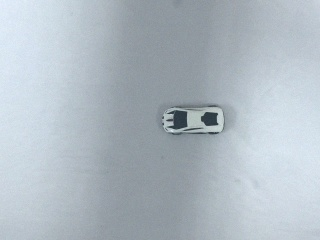toy_car: (162, 106, 225, 135)
